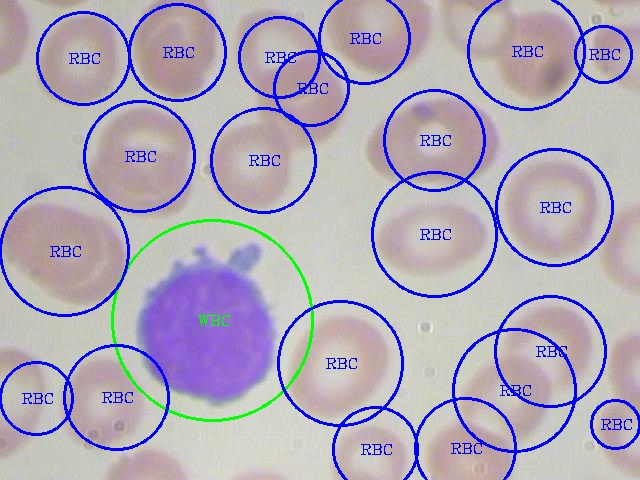RBC: (1, 196, 127, 309), (362, 87, 501, 185), (281, 307, 394, 420), (495, 150, 605, 258), (368, 189, 492, 279), (491, 294, 600, 396), (452, 348, 559, 448), (227, 2, 328, 104), (51, 352, 152, 453), (488, 5, 588, 104), (93, 96, 199, 189), (200, 115, 300, 213), (127, 0, 224, 99), (31, 7, 127, 106), (80, 144, 200, 222), (254, 58, 350, 151), (319, 0, 435, 75), (0, 342, 56, 458), (418, 415, 518, 478), (321, 416, 414, 479), (435, 0, 527, 63), (591, 380, 639, 479)
WBC: (130, 240, 286, 411)
